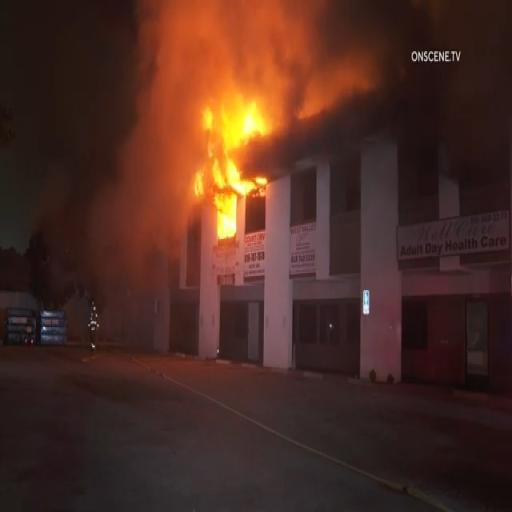fire: (200, 102, 268, 187), (214, 192, 238, 232)
smoke: (319, 5, 395, 81)
